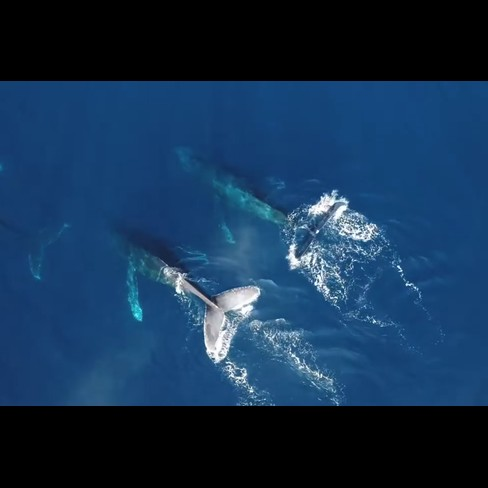hump: (80, 199, 266, 356), (168, 142, 354, 275), (1, 196, 76, 282)
